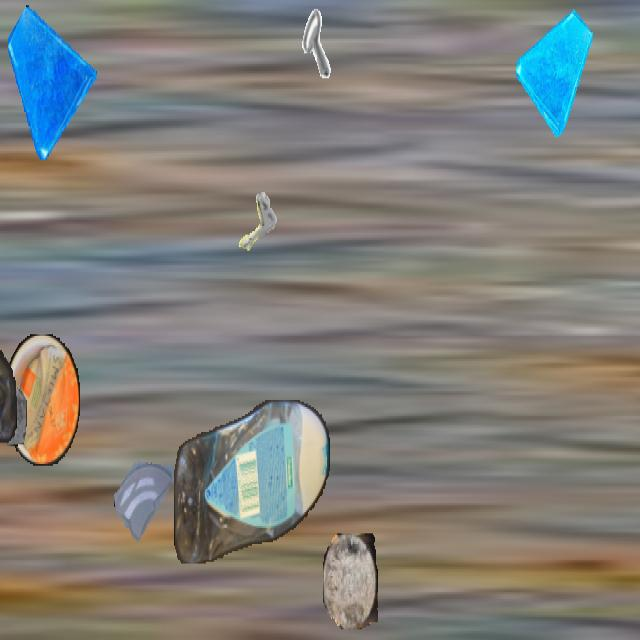glass: (8, 2, 96, 158), (516, 2, 592, 137), (114, 436, 176, 546), (0, 331, 27, 448)
metal: (270, 2, 332, 112), (221, 176, 281, 283)
plastic: (174, 400, 330, 564), (5, 334, 79, 466), (0, 2, 21, 464)
wood: (323, 534, 377, 630)
